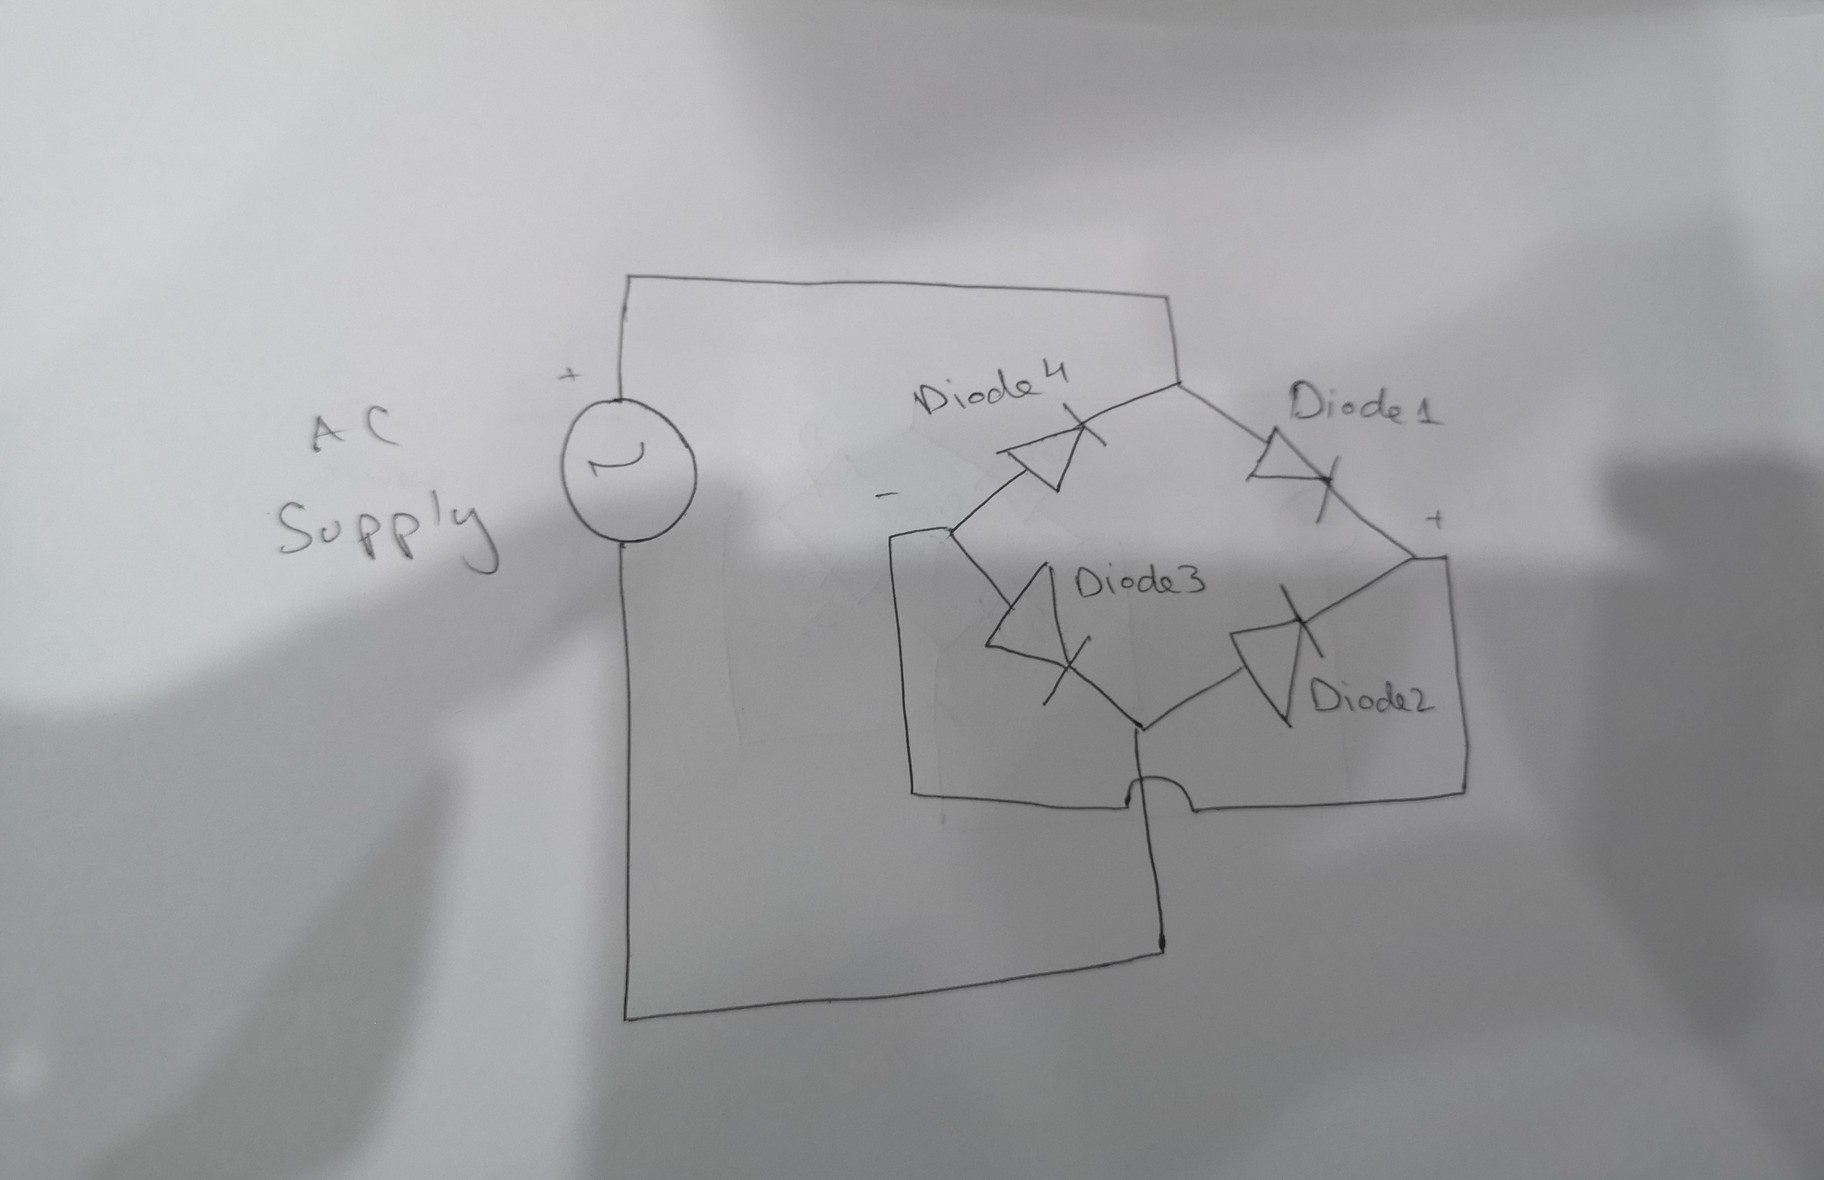crossover: (1111, 772, 1199, 820)
diode: (978, 555, 1099, 710), (1224, 577, 1328, 735), (1239, 424, 1355, 528), (989, 399, 1111, 496)
junction: (1122, 711, 1157, 740), (1149, 934, 1175, 965), (939, 518, 963, 545), (1450, 781, 1474, 805), (1167, 373, 1190, 397), (620, 266, 642, 290), (1155, 287, 1178, 308), (901, 781, 924, 803), (616, 1009, 635, 1030), (880, 528, 897, 546), (1437, 549, 1454, 563), (1405, 550, 1423, 565)
text: (269, 482, 508, 579), (909, 352, 1074, 423), (1282, 376, 1442, 431), (307, 403, 415, 460), (1070, 561, 1208, 605), (1308, 672, 1436, 716)
voltage.dc_ac: (553, 392, 705, 551)
